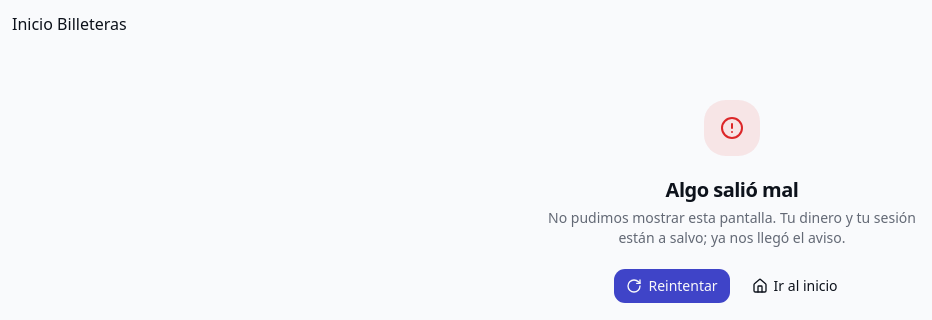
it: PageErrorBoundary › keeps the navigation working and clears the error on another page
Expected: the heading "Algo salió mal" is shown, [666,176,798,203]
Click the link "Inicio" at (32, 24), box [12,13,53,35]
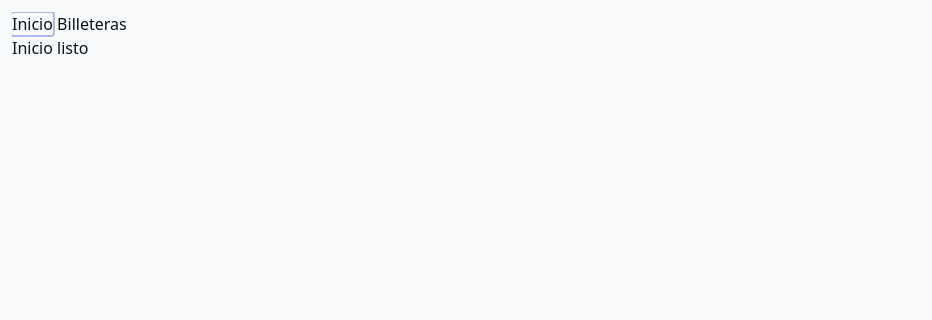
Expected: the text "Inicio listo" is shown, [12,37,88,59]
Expected: the heading "Algo salió mal" is gone
